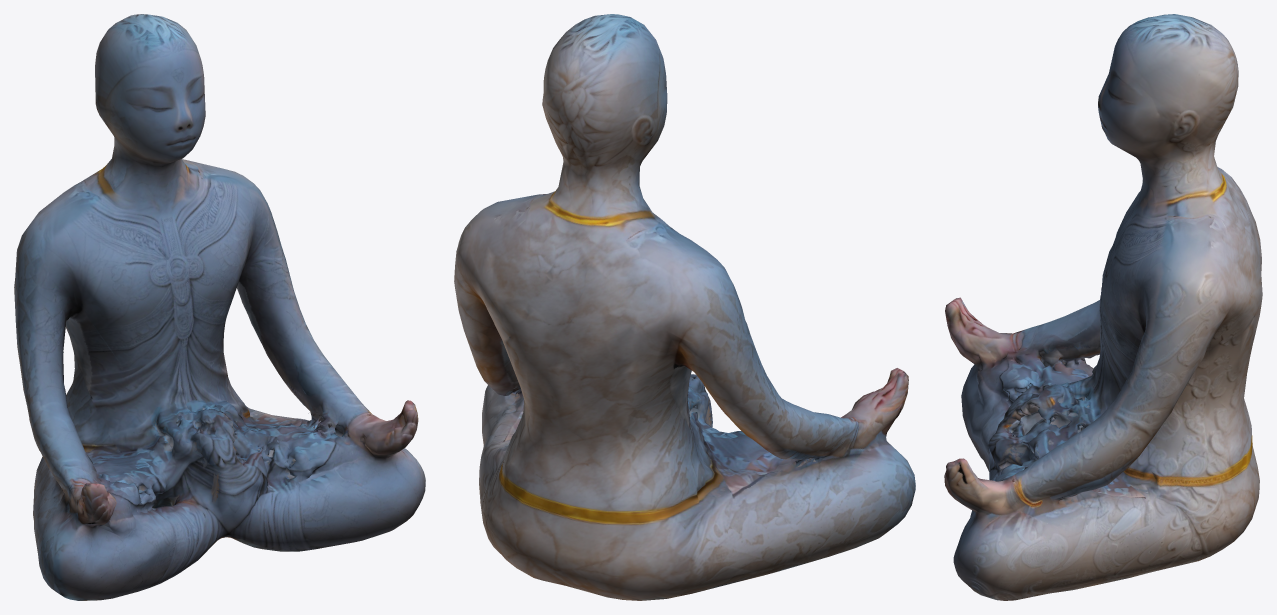
File: meditating-figure.glb
The picture shows the model from 3 angles, left to right: view 1: azimuth 30°, elevation 25°; view 2: azimuth 150°, elevation 25°; view 3: azimuth 270°, elevation 25°; orthographic projection. The views are drawn at different scales.
Bounding box in the file's own units: 0.9488 × 1.2 × 0.6684.
1 material, 1 textured.
